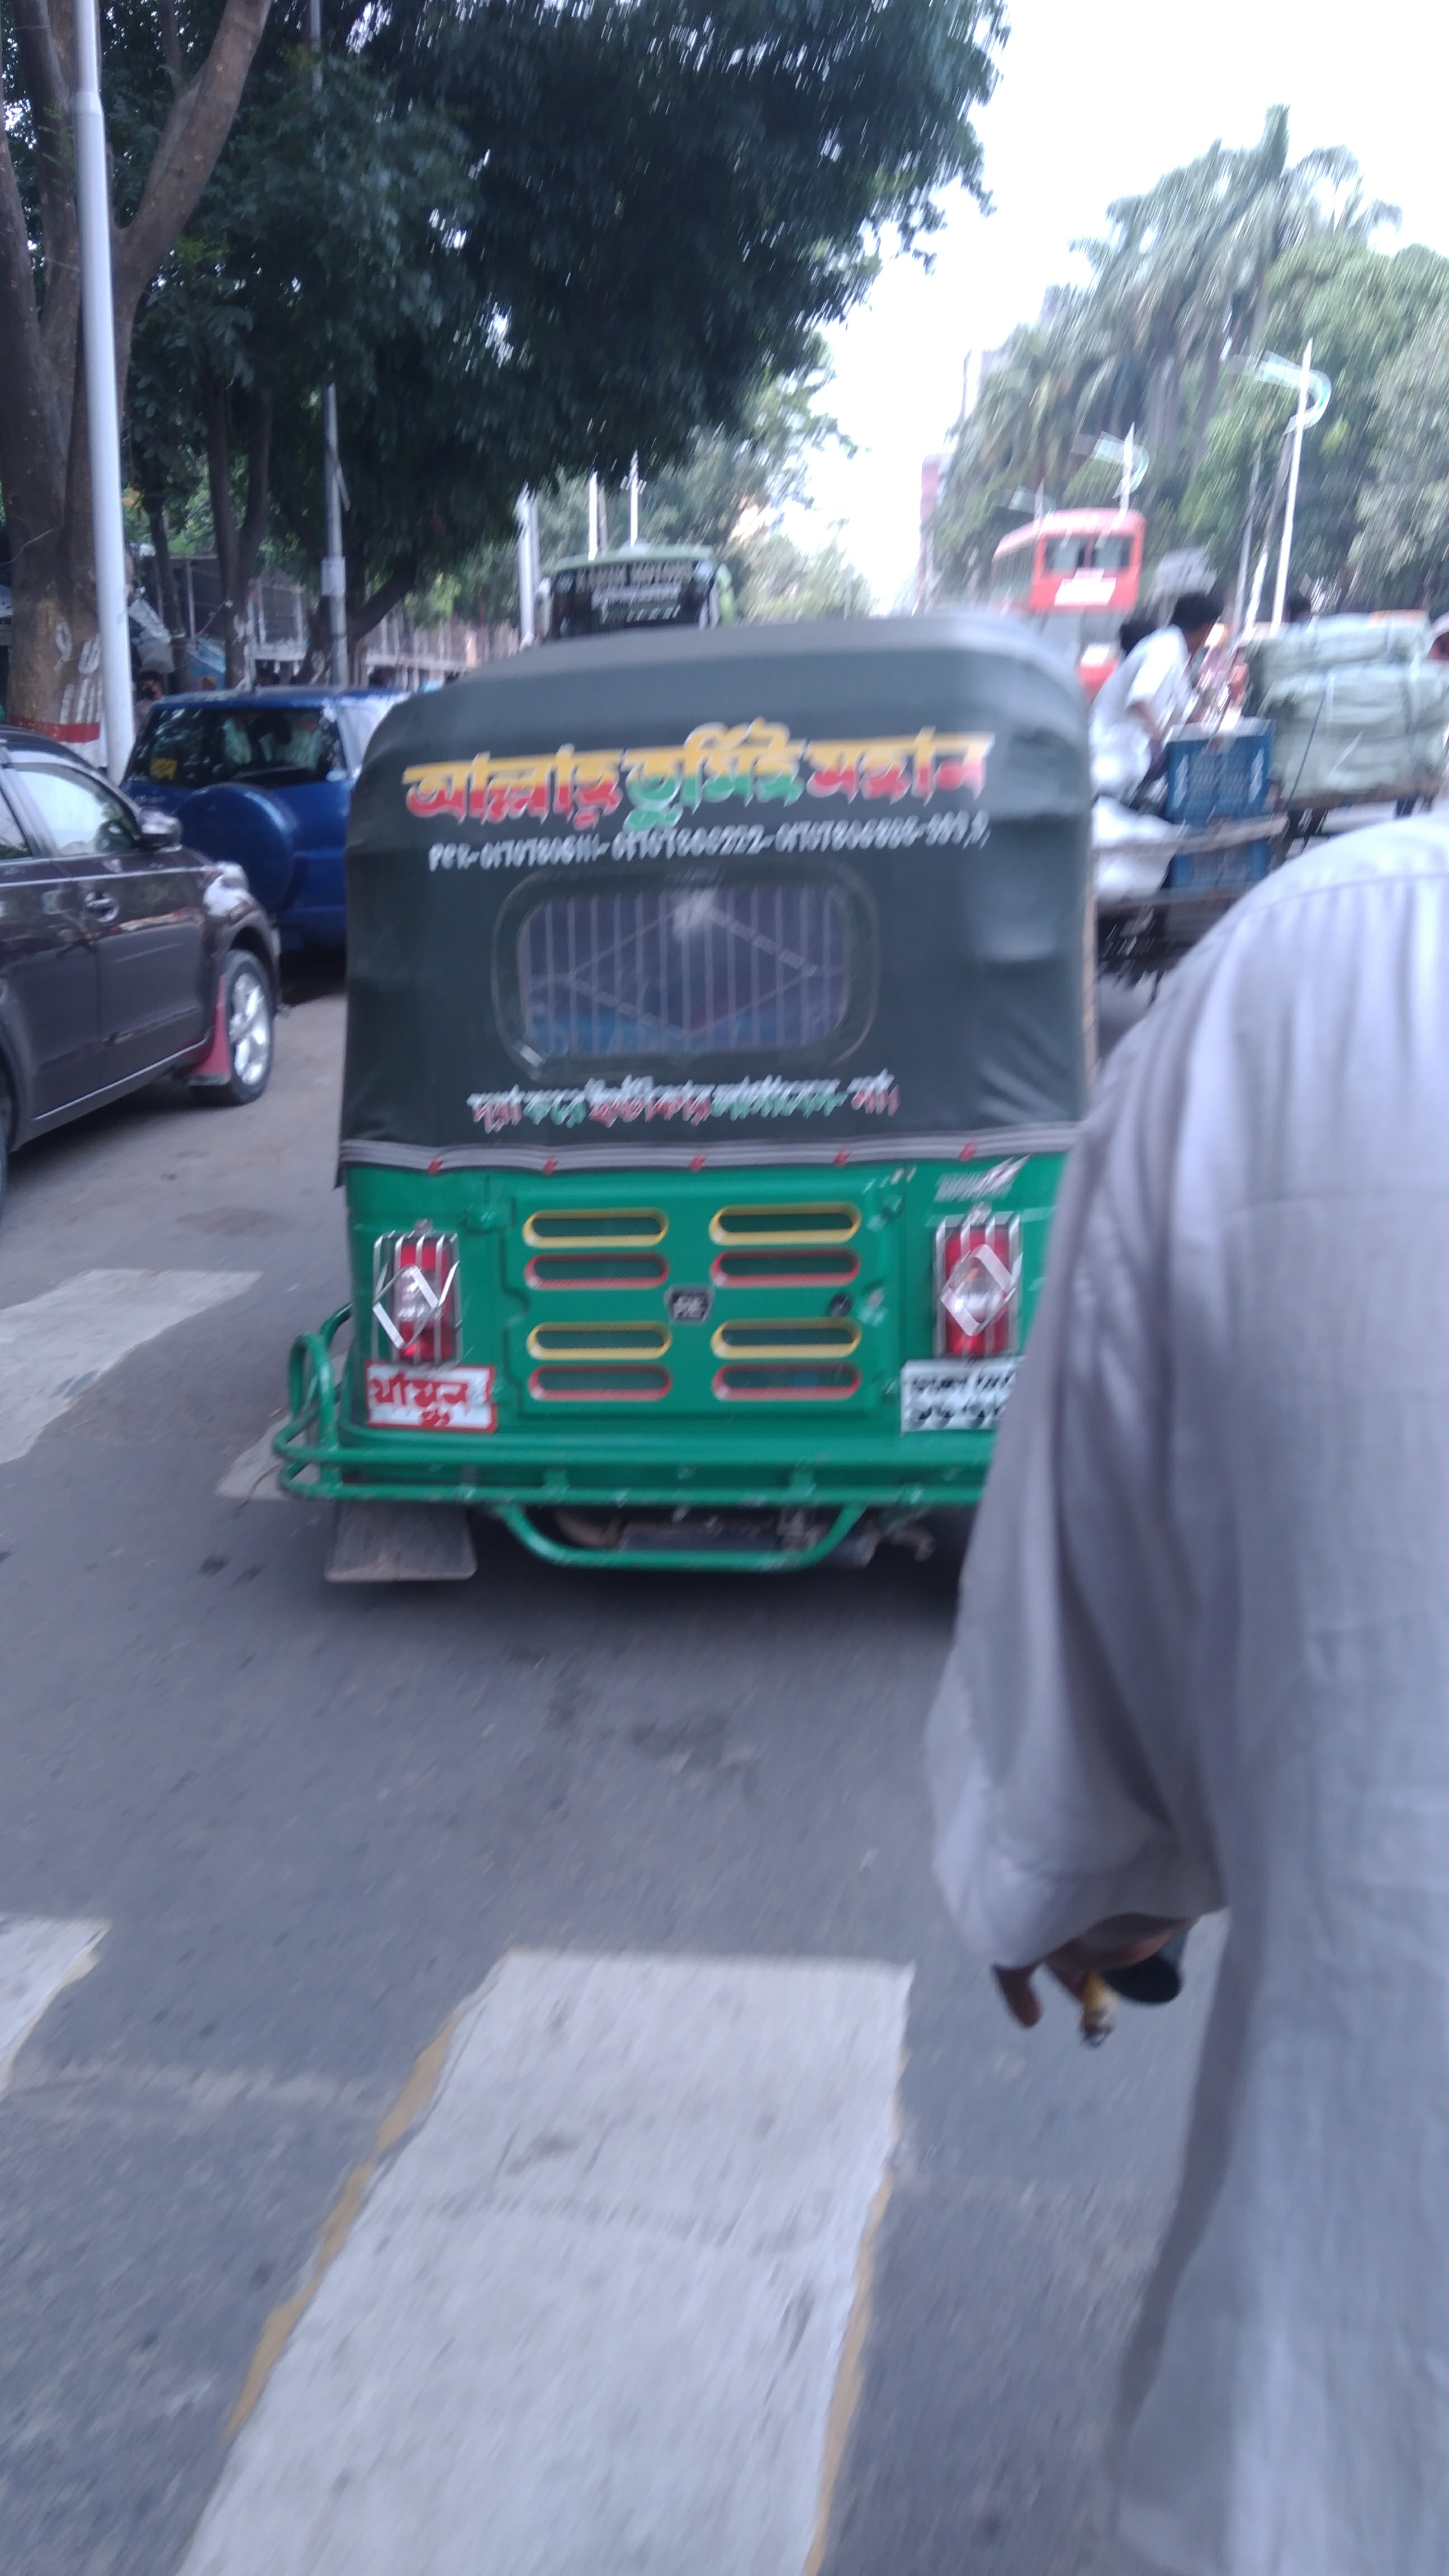bus: (996, 499, 1143, 648), (525, 540, 745, 632)
car: (0, 740, 285, 1146), (134, 679, 409, 939)
cng: (274, 610, 1104, 1589)
